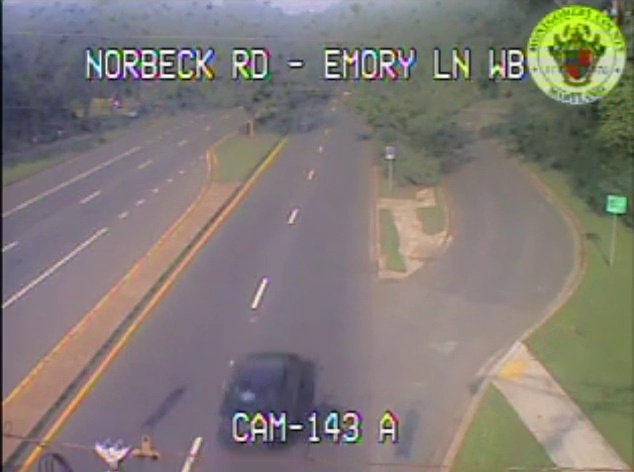car: (219, 354, 302, 440)
